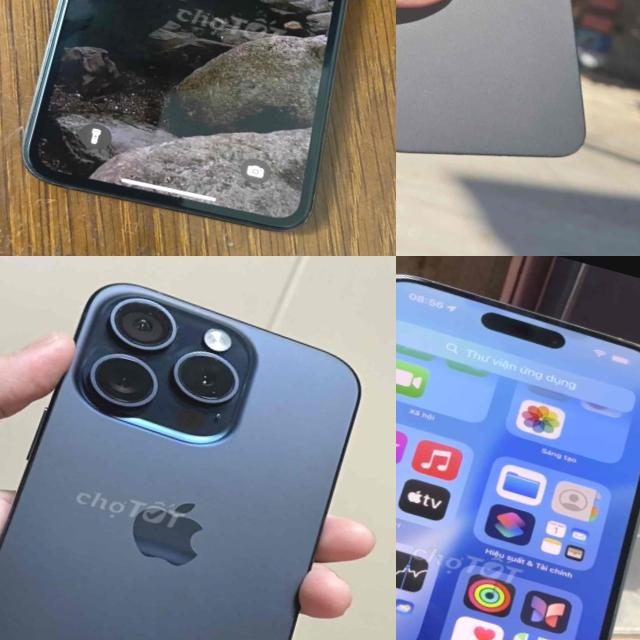gen_11: (0, 0, 396, 239)
gen_15: (0, 256, 396, 640), (396, 256, 640, 640)
gen_16: (396, 0, 640, 204)
